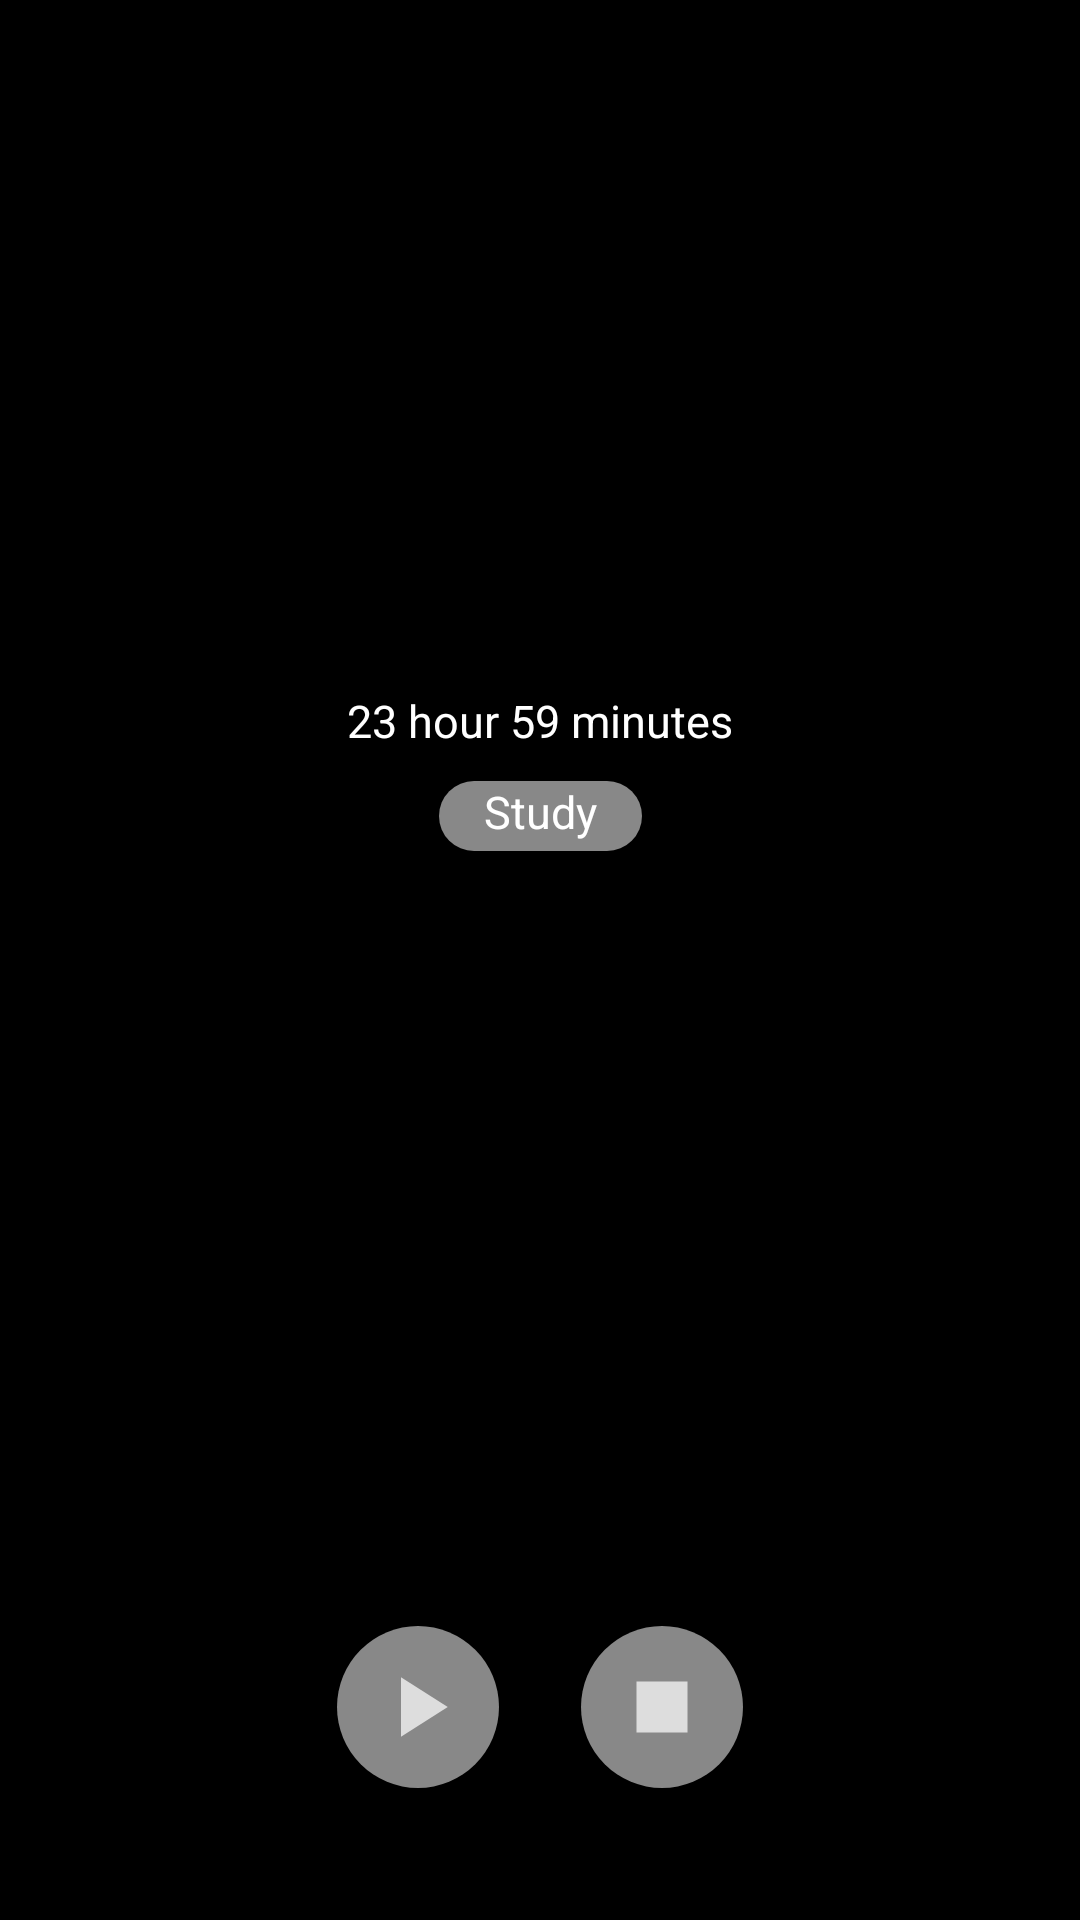

Locate icon controls on the screen. Image size 1080 × 1920, boxes as Rect(x1, y1, x2, y2).
Play: Rect(337, 1626, 499, 1788)
